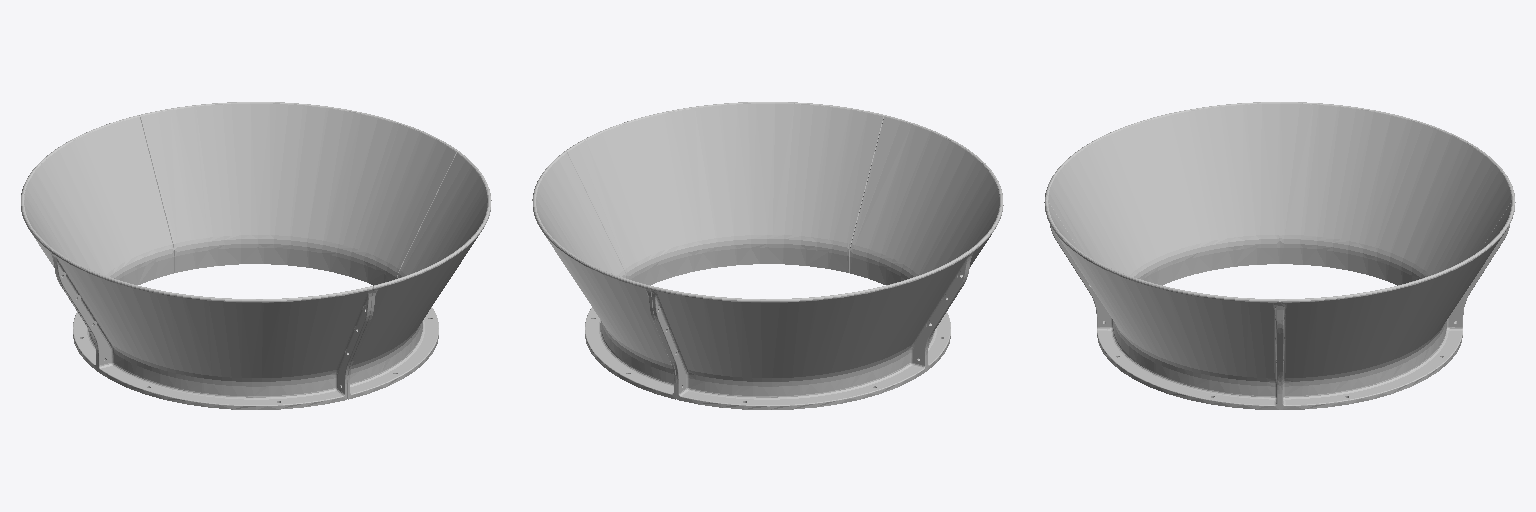
The robot description file, URDF, robot "stage":
<?xml version="1.0" encoding="utf-8"?>
<!-- =================================================================================== -->
<!-- |    This document was autogenerated by xacro from [local-path]/ws/fingers/workspace/src/catkin/robots/robot_properties/robot_properties_fingers/xacro/stage.urdf.xacro | -->
<!-- |    EDITING THIS FILE BY HAND IS NOT RECOMMENDED                                 | -->
<!-- =================================================================================== -->
<robot name="stage">
  <material name="stage_material">
    <color rgba="0.8 0.8 0.8 1.0"/>
  </material>
  <!-- add the "stage" -->
  <link name="stage_link">
    <visual>
      <origin rpy="0 0 0" xyz="0 0 0"/>
      <geometry>
        <mesh filename="package://robot_properties_fingers/meshes/high_table_boundary.stl" scale="1 1 1"/>
      </geometry>
      <material name="stage_material"/>
    </visual>

    <collision>
      <origin rpy="0 0 0" xyz="0 0 0"/>
      <geometry>
        <mesh filename="package://robot_properties_fingers/meshes/high_table_boundary.stl" scale="1 1 1"/>
      </geometry>
    </collision>

    <inertial>
      <origin rpy="0 0 0" xyz="0 0 0"/>
      <mass value="1"/>
      <inertia ixx="0.00770833333333" ixy="0" ixz="0" iyy="0.00770833333333" iyz="0" izz="0.015"/>
    </inertial>
  </link>
</robot>

--- What the picture shows (computed from the rendered views, not written in the file) ---
Views: 3 orthographic renders of the robot side by side, from view 1: azimuth 30°, elevation 25°; view 2: azimuth 150°, elevation 25°; view 3: azimuth 270°, elevation 25°.
Model stage with 1 links and 0 joints (none), rooted at stage_link, posed all joints at 0.
Links seen in each view (by area): view 1: stage_link; view 2: stage_link; view 3: stage_link.
Boxes of the visible links, <box> form: stage_link: <box>21,102,491,409</box>; stage_link: <box>532,102,1003,409</box>; stage_link: <box>1044,102,1515,409</box>.
Size in the robot's own frame: 0.5653 by 0.5653 by 0.175 metres.
Meshes: 1 distinct files referenced, 1 mesh visuals loaded (1 binary STL).
